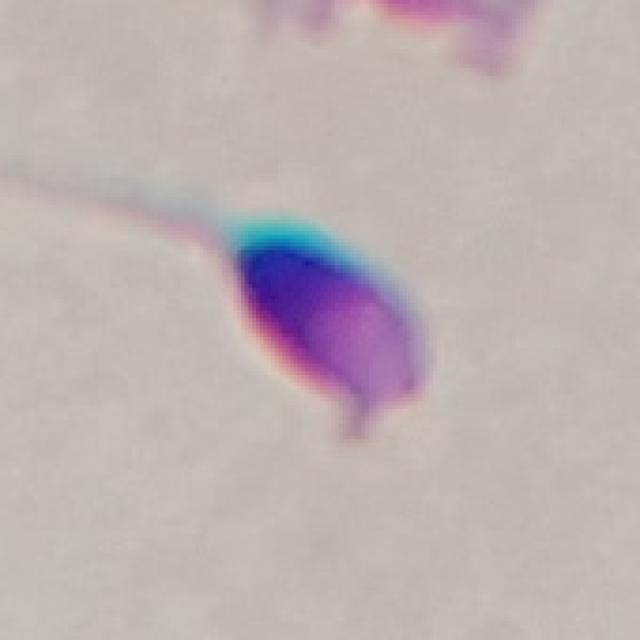normal sperm: (130, 189, 428, 411)
